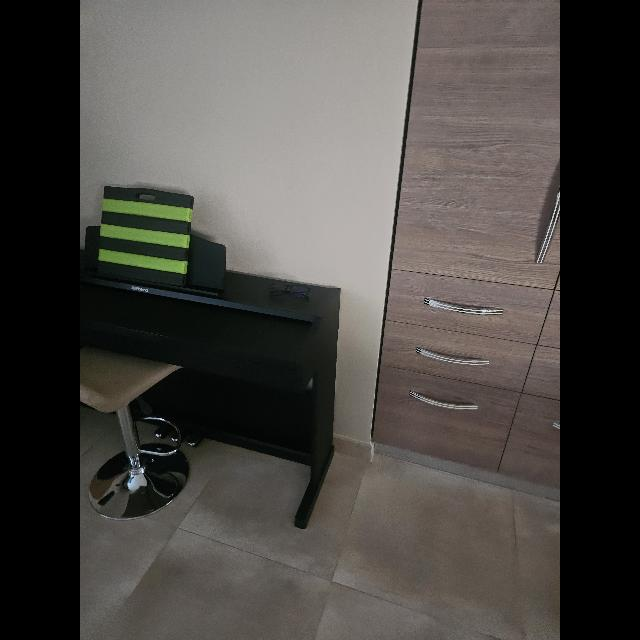glasses: (269, 284, 311, 300)
